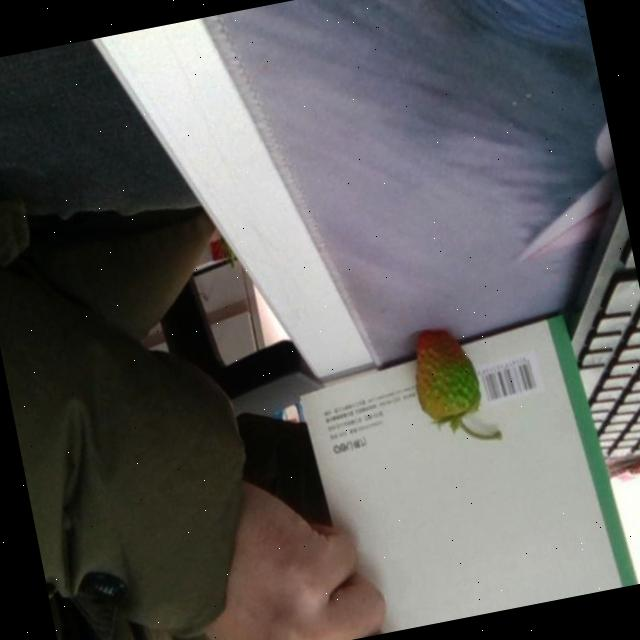strawberry: (404, 322, 484, 428)
